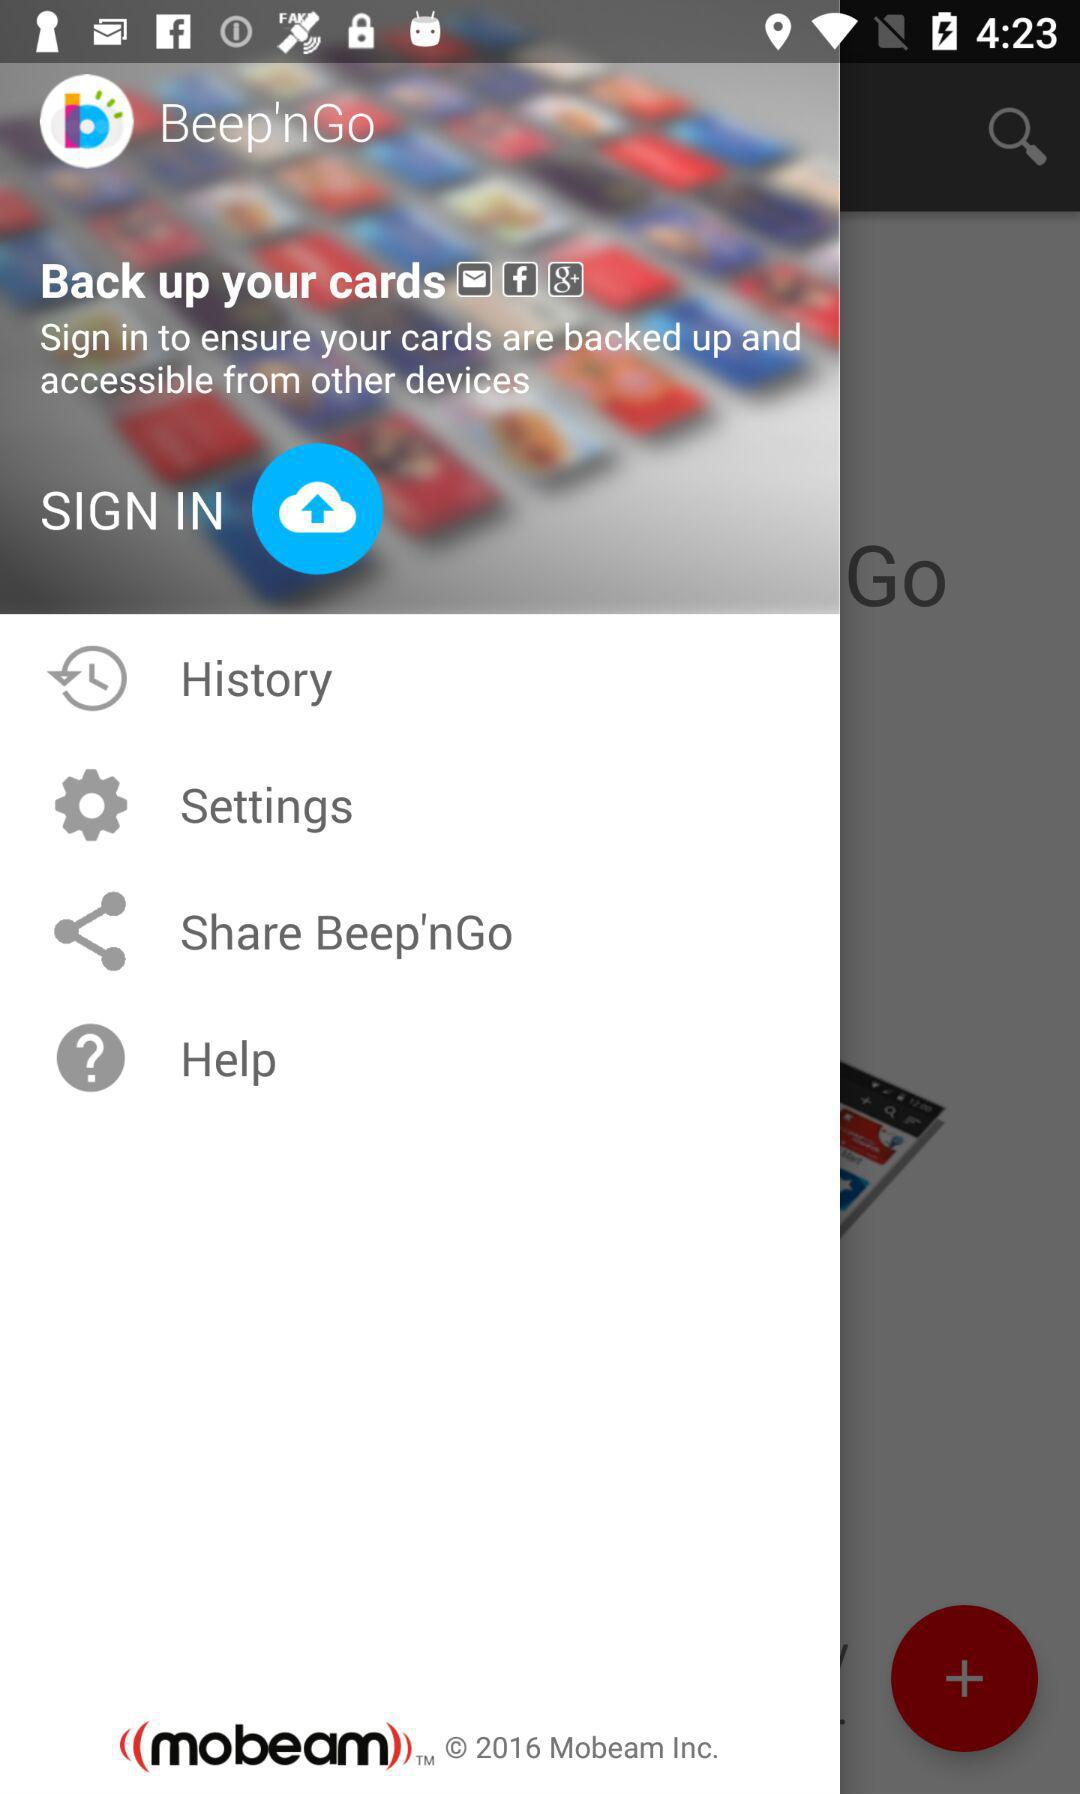Drawer: (1, 64, 839, 1793)
Icon: (890, 1603, 1039, 1753), (252, 442, 386, 575), (54, 891, 128, 973), (55, 768, 129, 842), (47, 646, 128, 712), (56, 1023, 127, 1093), (986, 108, 1049, 168), (502, 261, 539, 299), (548, 261, 585, 299), (457, 261, 493, 299)
Image: (115, 1715, 437, 1768), (38, 74, 136, 170)
Text: (41, 322, 802, 397), (42, 261, 448, 311), (182, 912, 512, 961), (161, 101, 375, 155), (182, 786, 354, 835), (445, 1729, 720, 1759), (42, 491, 224, 533), (184, 659, 334, 709), (184, 1039, 277, 1088)
UpperTaskBar: (1, 1, 1080, 64)
